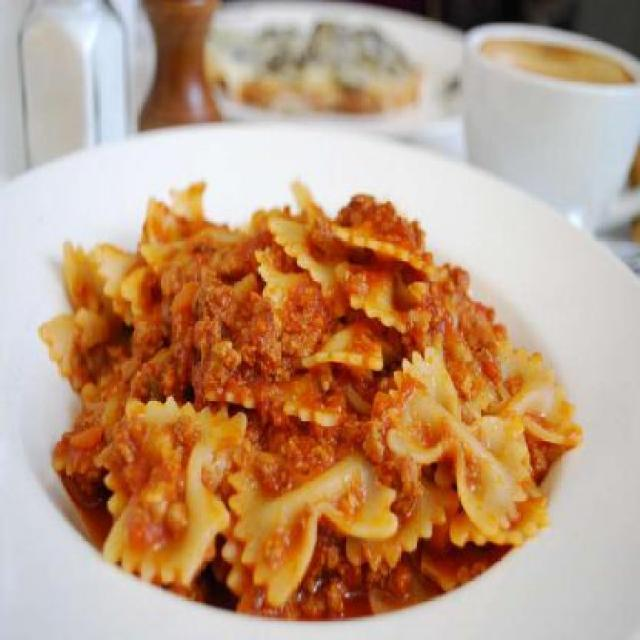Pasta al ragu: (44, 176, 582, 593)
